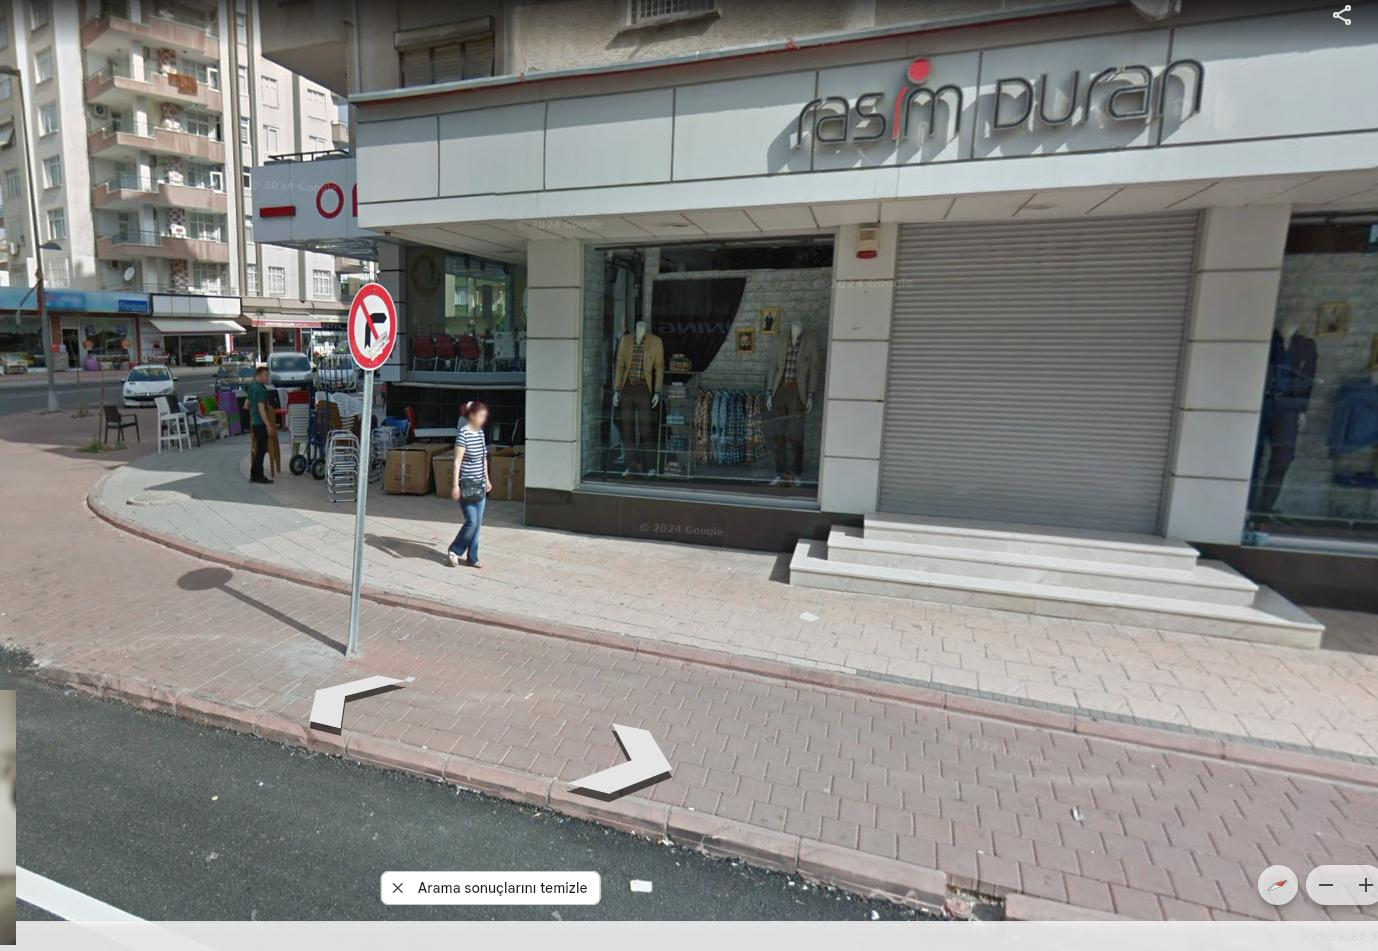rightturnsareforbidden: (352, 294, 397, 362)
